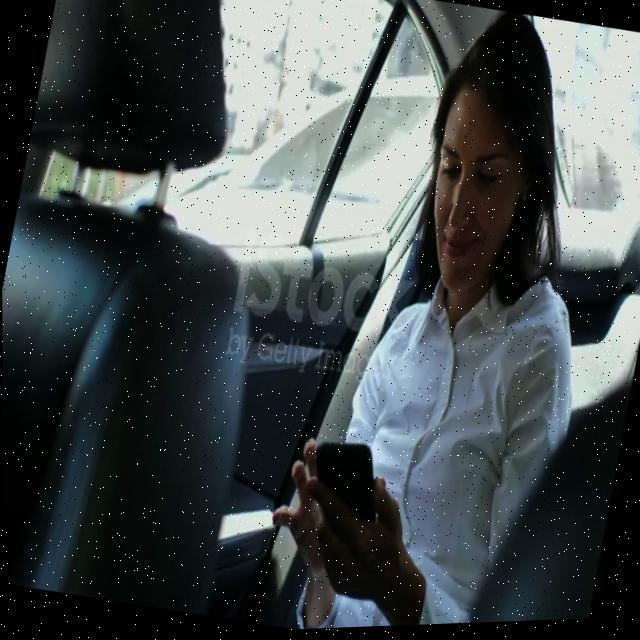PhoneCall: (292, 438, 389, 580)
